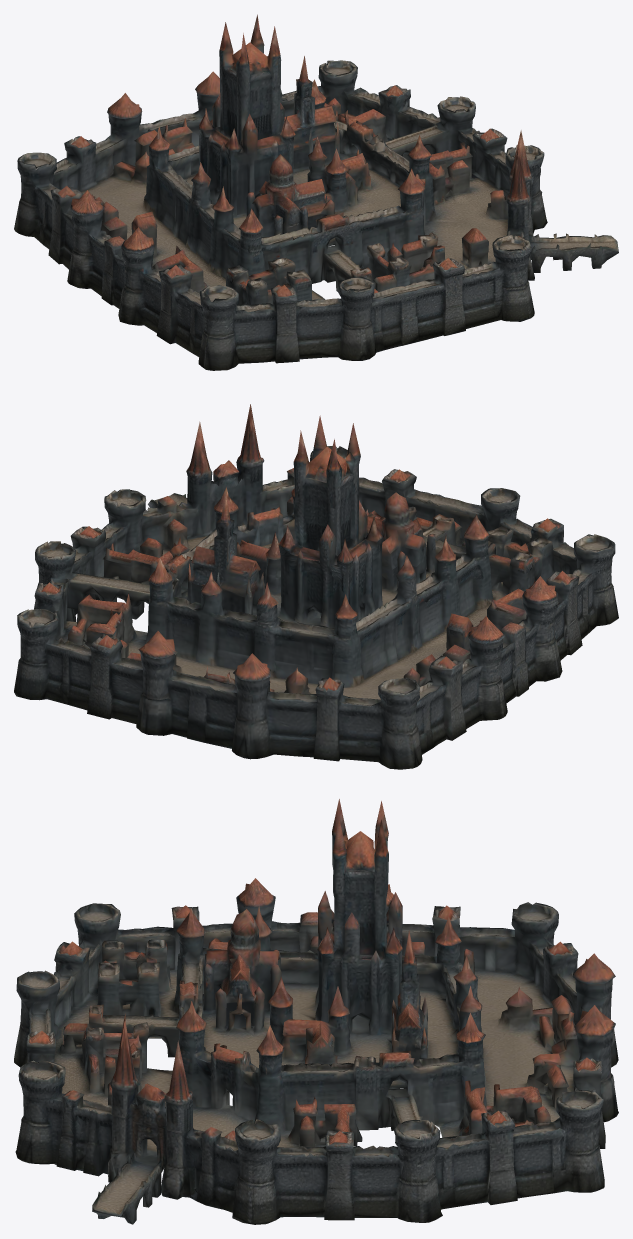
Rendered from human-5.glb.
3 views of the same model, one above another, from view 1: azimuth 30°, elevation 25°; view 2: azimuth 150°, elevation 25°; view 3: azimuth 270°, elevation 25° (orthographic). The views are drawn at different scales.
Parts seen in each view (by area): view 1: tripo_node_6cba93bd-6b75-4467-be3e-22e3305741eb; view 2: tripo_node_6cba93bd-6b75-4467-be3e-22e3305741eb; view 3: tripo_node_6cba93bd-6b75-4467-be3e-22e3305741eb.
Boxes of the visible parts, bbox=[...] form: tripo_node_6cba93bd-6b75-4467-be3e-22e3305741eb: bbox=[14, 14, 618, 370]; tripo_node_6cba93bd-6b75-4467-be3e-22e3305741eb: bbox=[14, 404, 618, 769]; tripo_node_6cba93bd-6b75-4467-be3e-22e3305741eb: bbox=[14, 799, 618, 1224].
Size of the model in its own units: 1 by 0.489 by 0.9908.
1 material, 1 textured.
